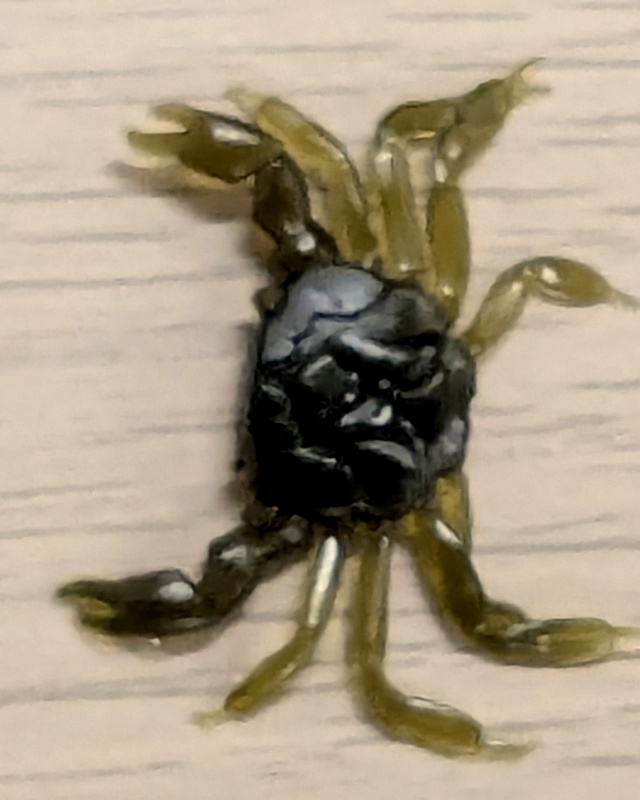crab2: (52, 55, 640, 767)
